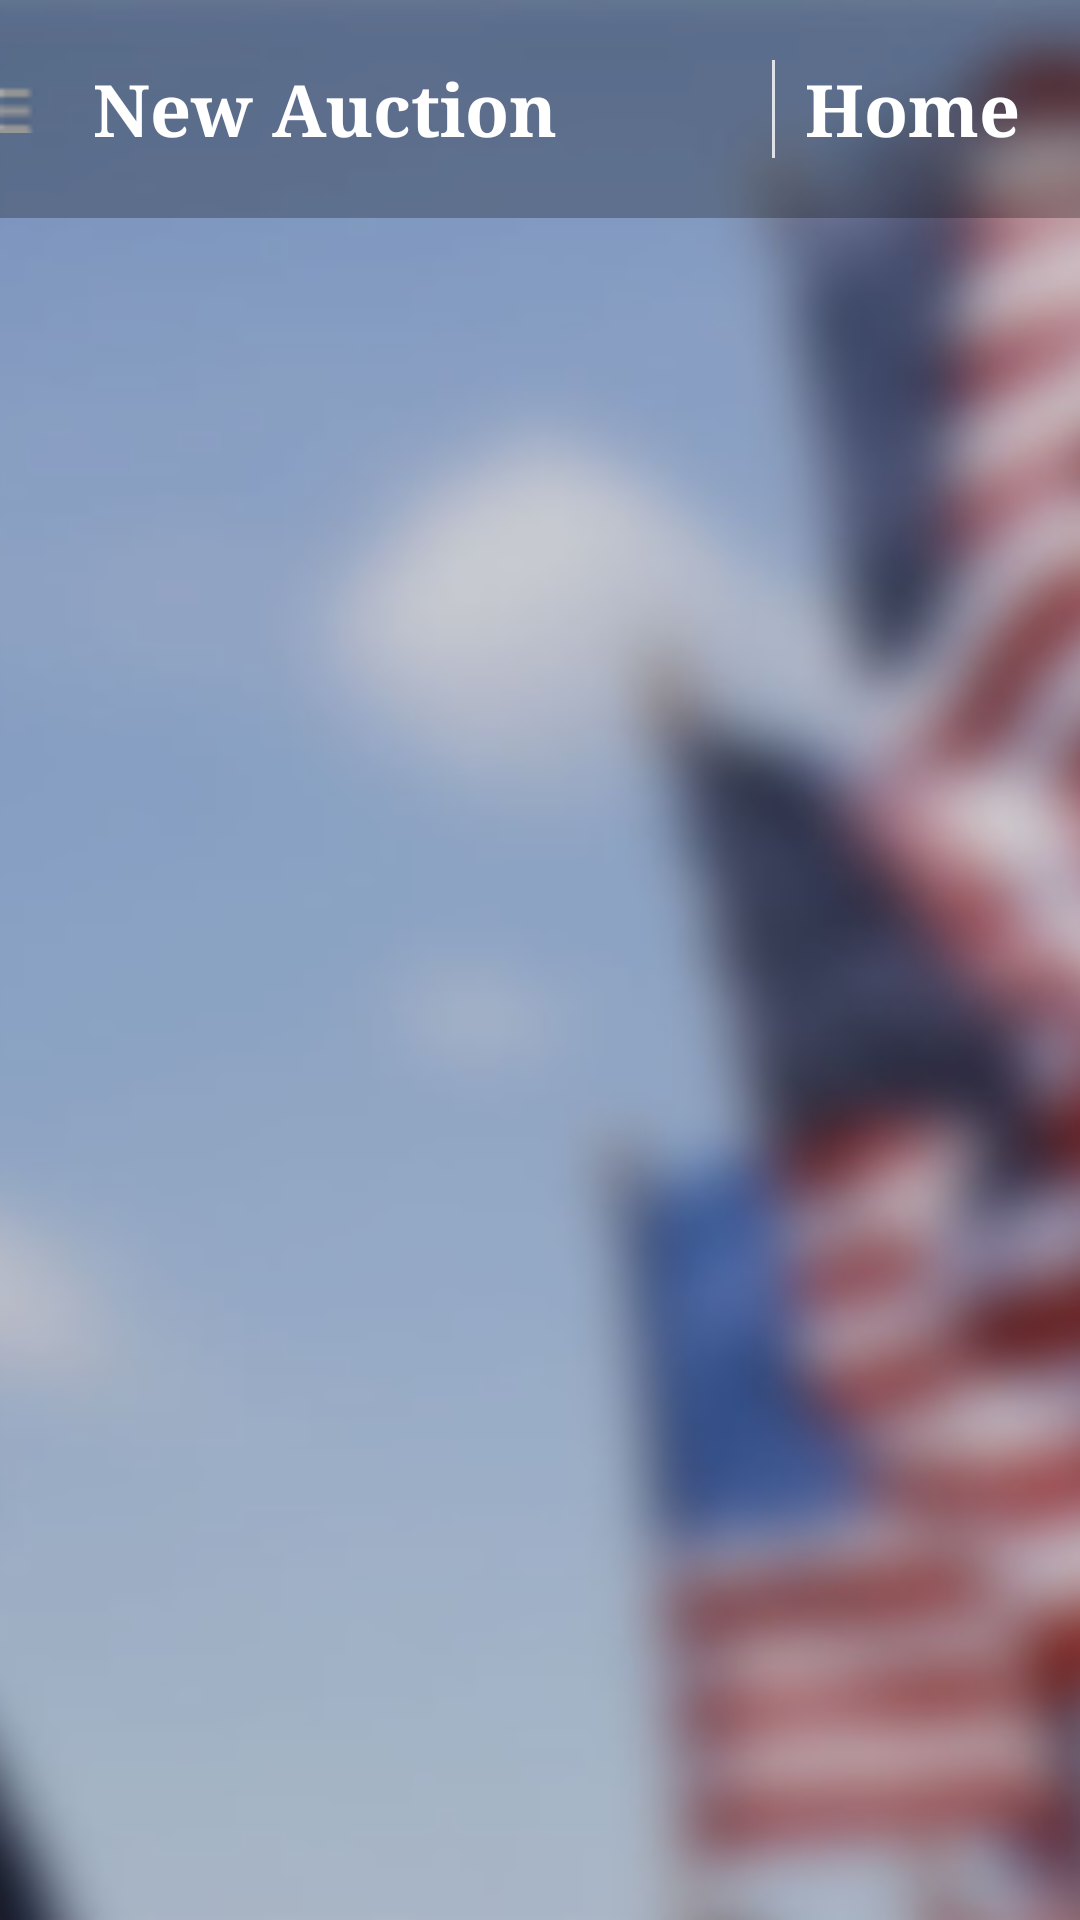

Named icons in this screenshot (1080 x 1920) and their bounding boxes, box(x1, y1, x2, y2):
drawer: box(0, 88, 31, 133)
